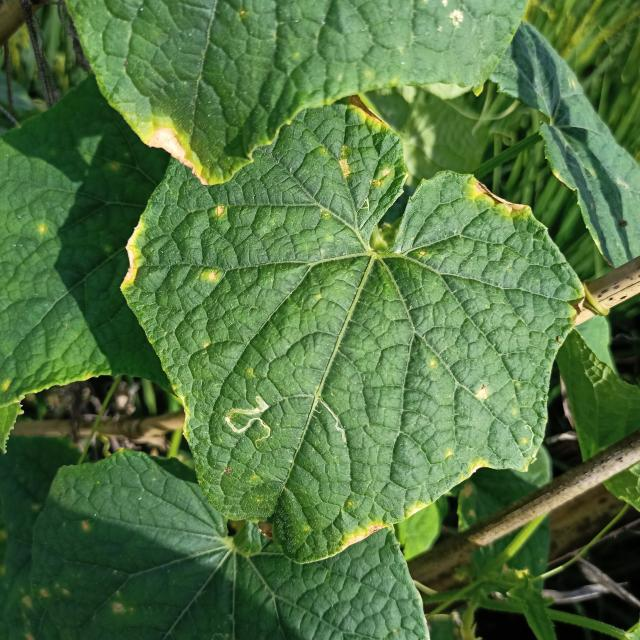disease_cucumber: (339, 96, 398, 186), (442, 448, 498, 478), (472, 386, 496, 404), (201, 267, 224, 284), (214, 202, 226, 222)
